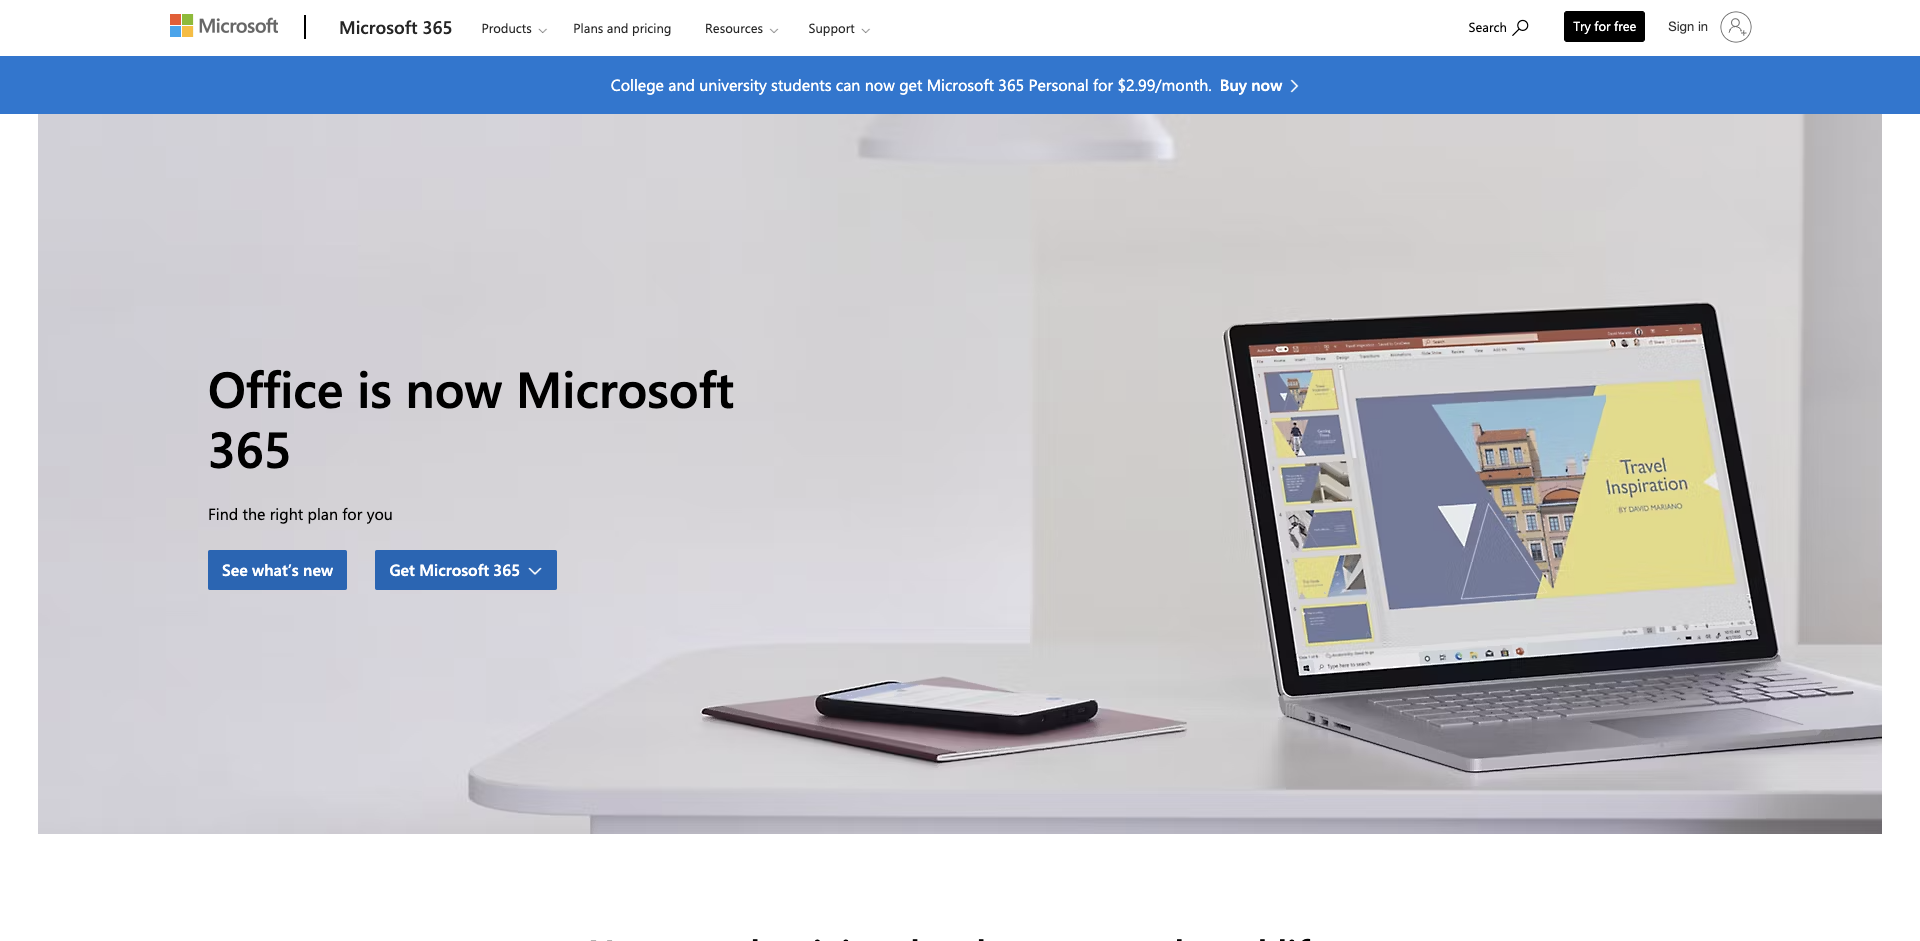button: (376, 550, 557, 591), (208, 550, 347, 591), (688, 1, 793, 54), (464, 1, 563, 54), (791, 1, 885, 54), (1460, 2, 1537, 48)
dropdown: (376, 550, 557, 591)
link: (160, 1, 298, 55), (329, 1, 463, 55), (564, 1, 681, 49), (1657, 2, 1760, 51), (1564, 11, 1646, 42), (1220, 74, 1309, 97)
menu_item: (561, 0, 684, 49), (688, 0, 789, 54), (464, 0, 557, 54), (791, 0, 879, 54), (1554, 0, 1656, 43)
